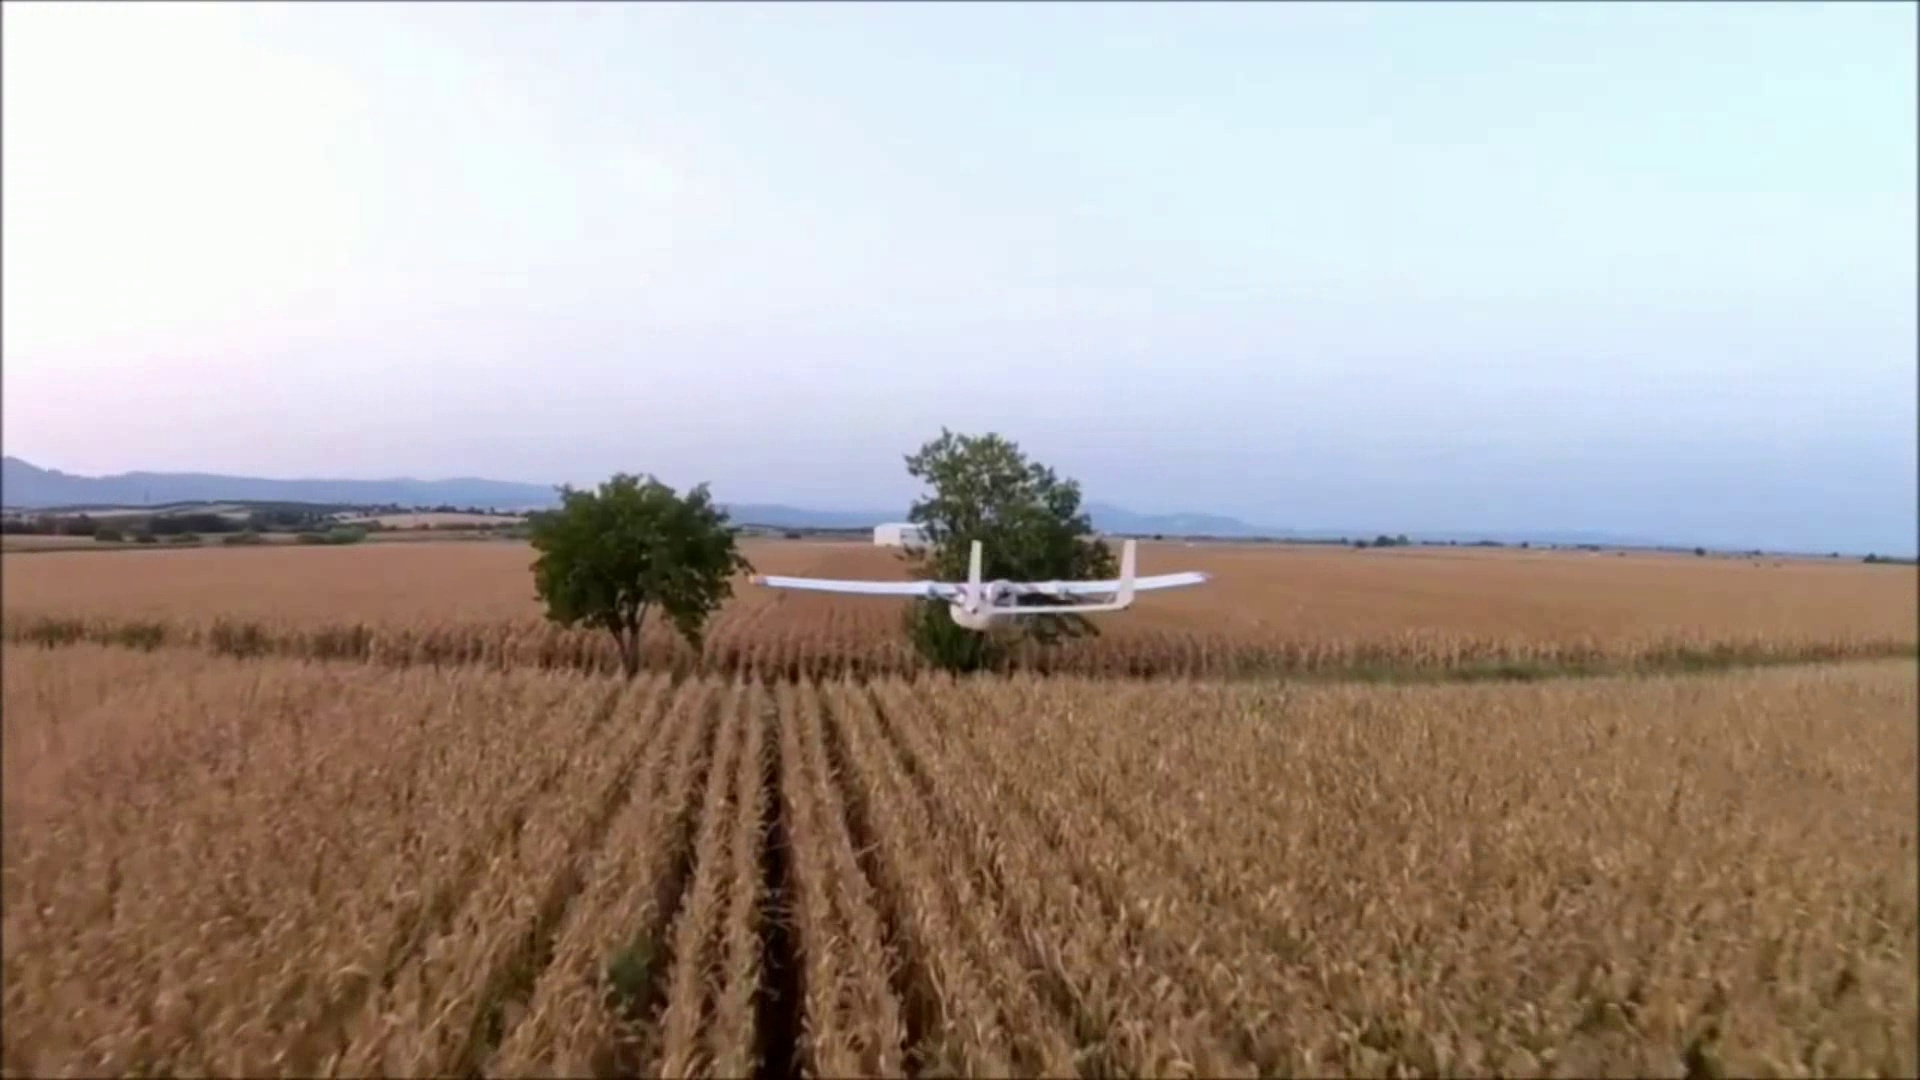airplane: (735, 547, 1214, 641)
